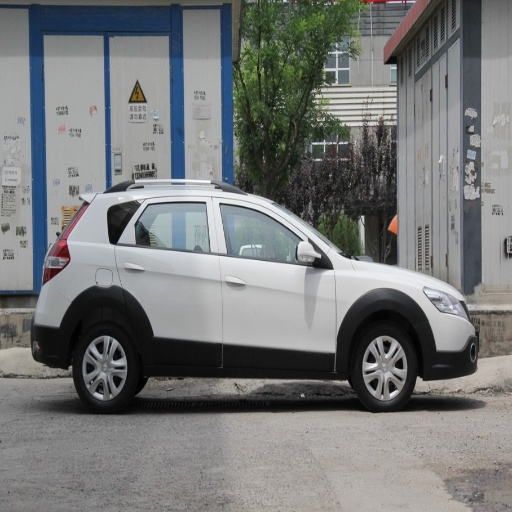back_right_door: (115, 193, 222, 365)
front_right_door: (214, 195, 335, 365)
